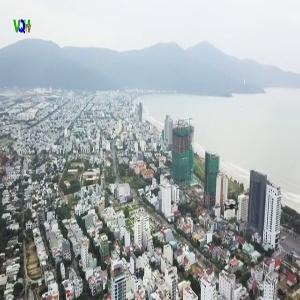drone: (208, 182, 261, 235)
